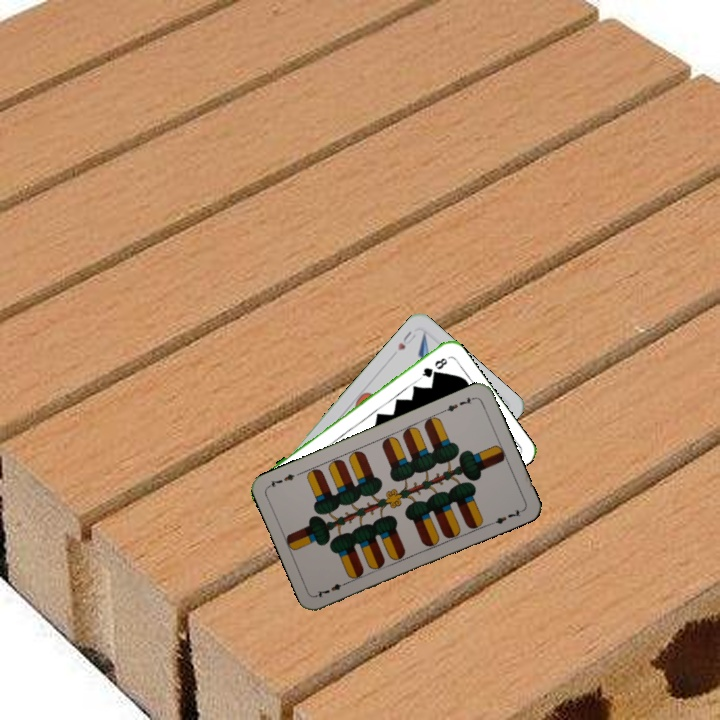E7: (313, 577, 351, 600), (439, 393, 477, 415)
G8: (416, 354, 450, 382)
HU: (393, 327, 418, 354)
